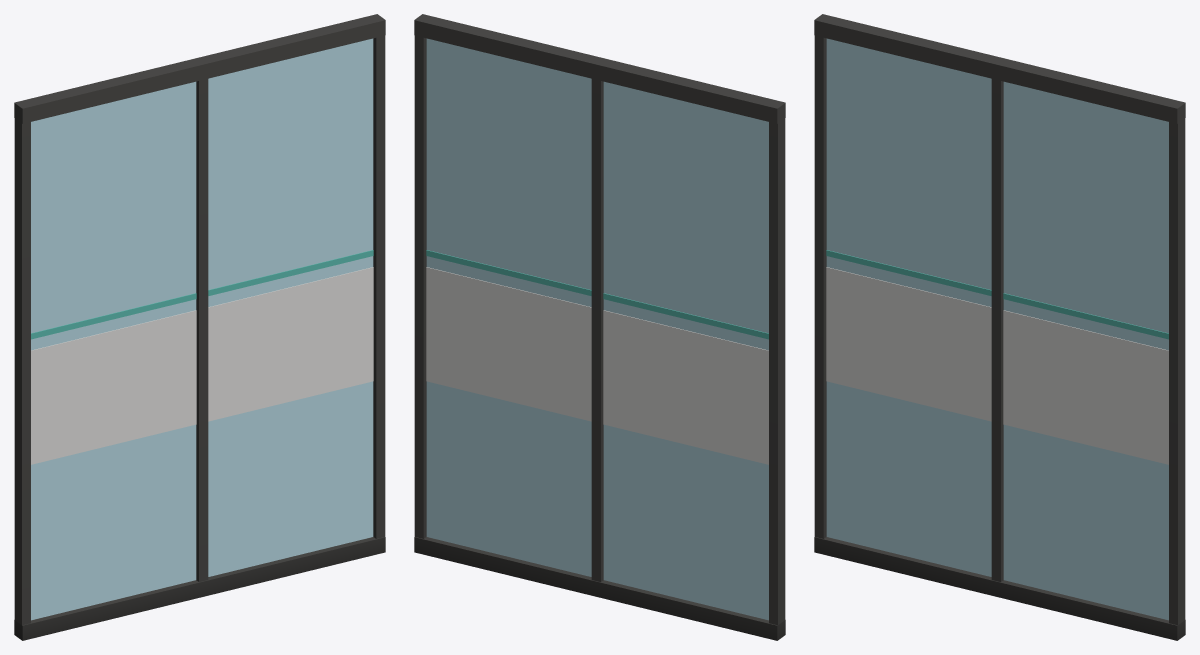
Rendered from office_glass_wall_01.glb.
3 views of the same model, side by side, from view 1: azimuth 30°, elevation 25°; view 2: azimuth 150°, elevation 25°; view 3: azimuth 330°, elevation 25° (orthographic).
Parts seen in each view (by area): view 1: office_glass_wall_01_glass, office_glass_wall_01_mesh; view 2: office_glass_wall_01_glass, office_glass_wall_01_mesh; view 3: office_glass_wall_01_glass, office_glass_wall_01_mesh.
Boxes of the visible parts, <box> form: office_glass_wall_01_glass: <box>31,38,373,620</box>; office_glass_wall_01_mesh: <box>14,14,385,640</box>; office_glass_wall_01_glass: <box>426,38,768,620</box>; office_glass_wall_01_mesh: <box>414,14,785,640</box>; office_glass_wall_01_glass: <box>826,38,1168,620</box>; office_glass_wall_01_mesh: <box>814,14,1185,640</box>.
Bounding box in the file's own units: 2 × 2.8 × 0.08.
2 materials, 2 textured.
